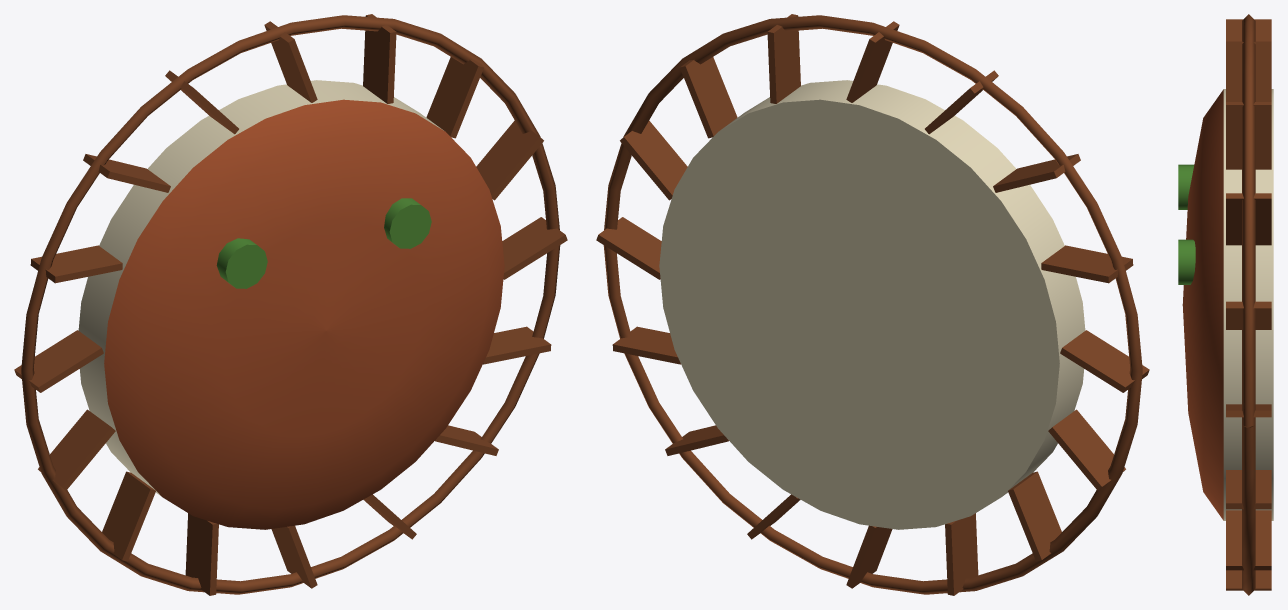
The model's file is pod100_cooler.obj.
3 renders of one model, left to right at view 1: azimuth 30°, elevation 25°; view 2: azimuth 150°, elevation 25°; view 3: azimuth 270°, elevation 25°, orthographic. The views are drawn at different scales.
Visible parts, largest first — view 1: pod100_cooler; view 2: pod100_cooler; view 3: pod100_cooler.
Part boxes in pixels (x1,y1,x2,y2): pod100_cooler: (14, 14, 567, 595); pod100_cooler: (596, 14, 1149, 595); pod100_cooler: (1178, 14, 1273, 595).
Size of the model in its own units: 2.56 by 2.56 by 0.42.
